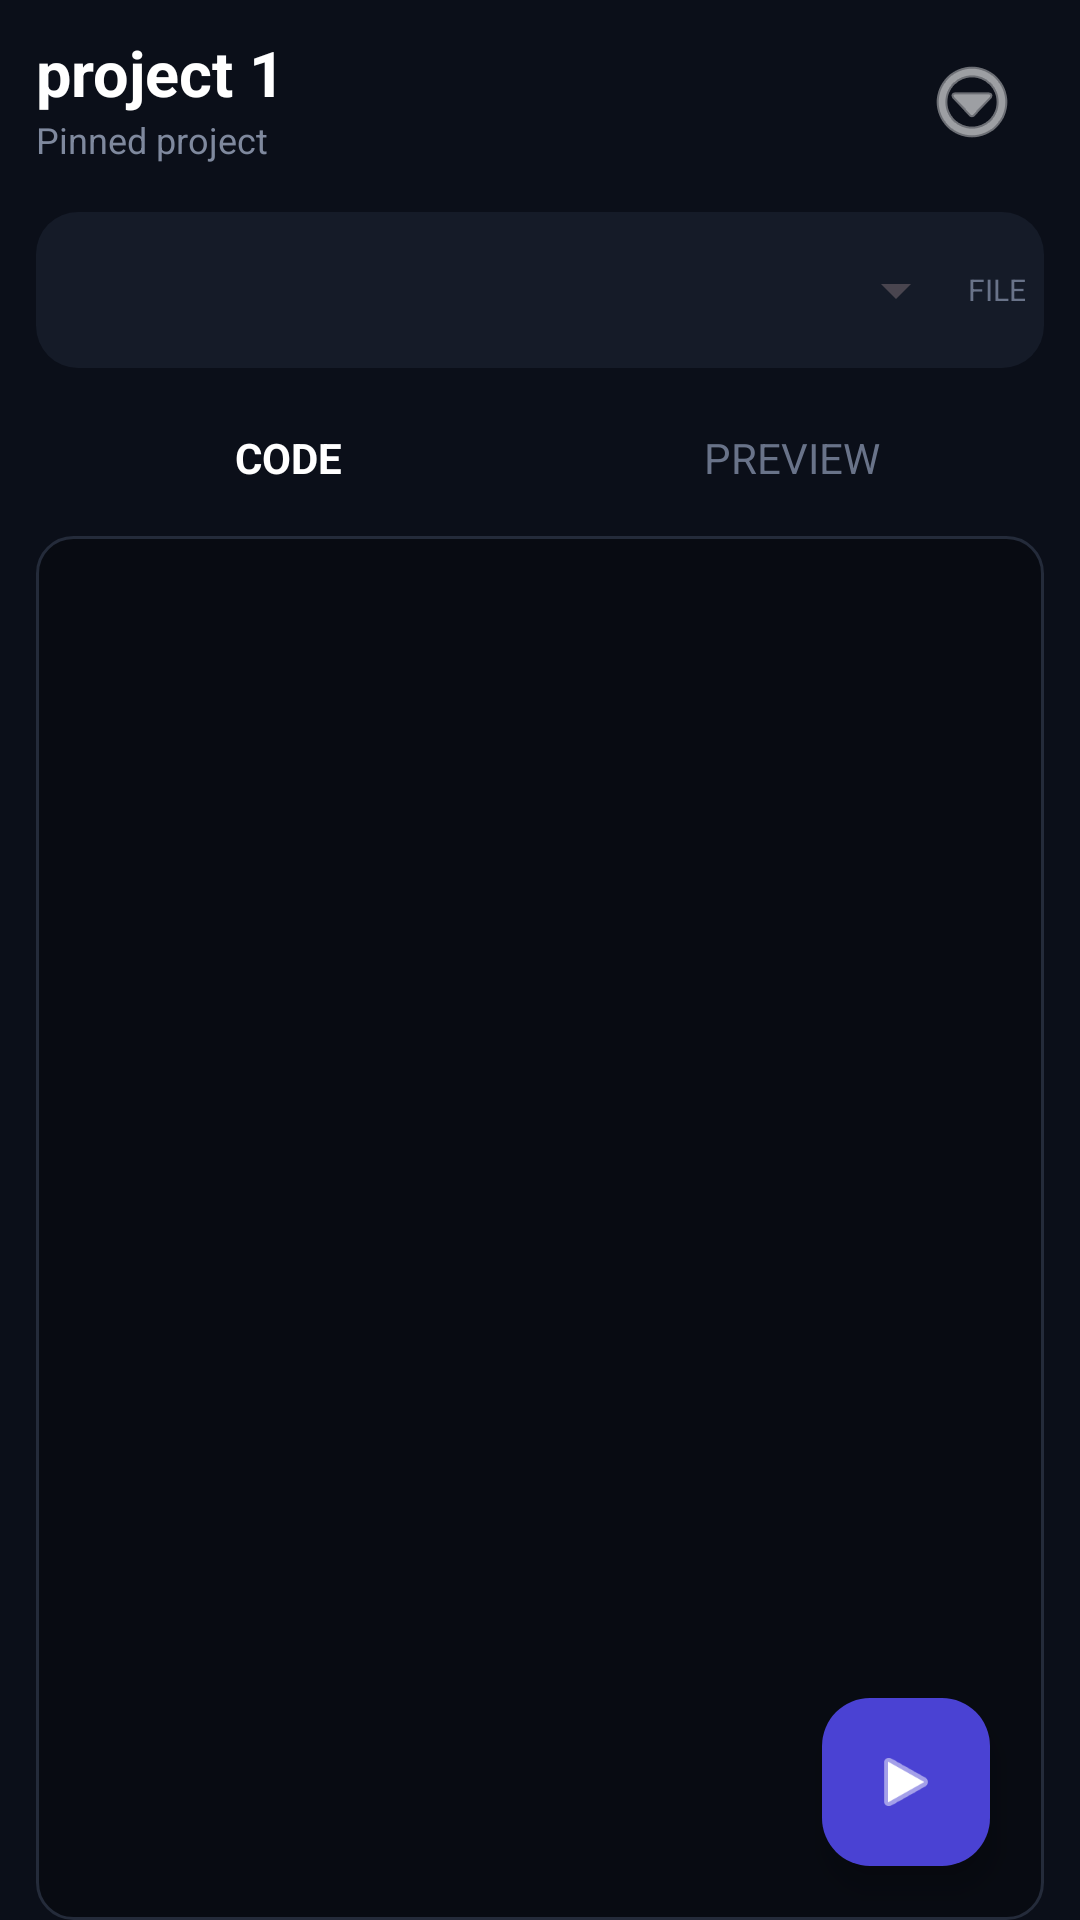

Where icons sit on this 1080w x 1920h app screen, as {"x1": x1, "y1": y1, "x2": x2, "y2": y2}:
More: {"x1": 936, "y1": 66, "x2": 1008, "y2": 138}
Run: {"x1": 822, "y1": 1698, "x2": 990, "y2": 1866}
